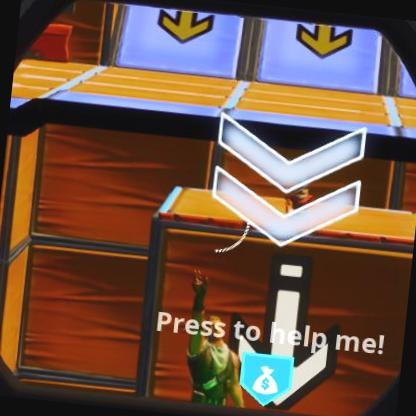person: (177, 305, 247, 416)
